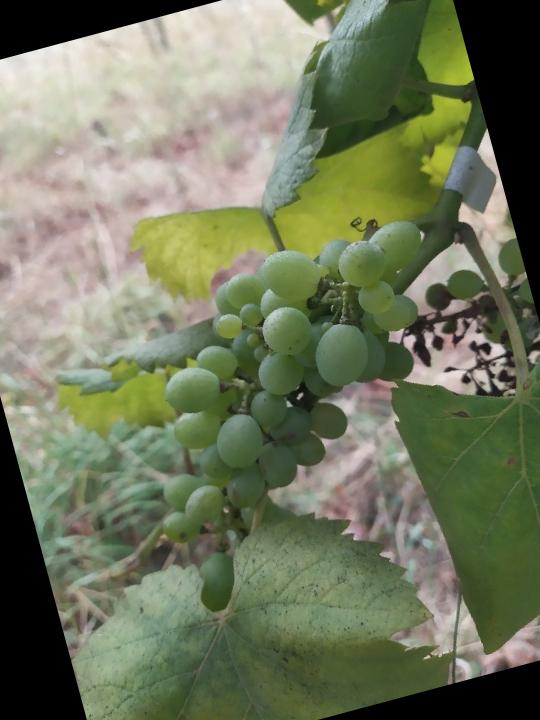grape: (99, 210, 488, 551)
